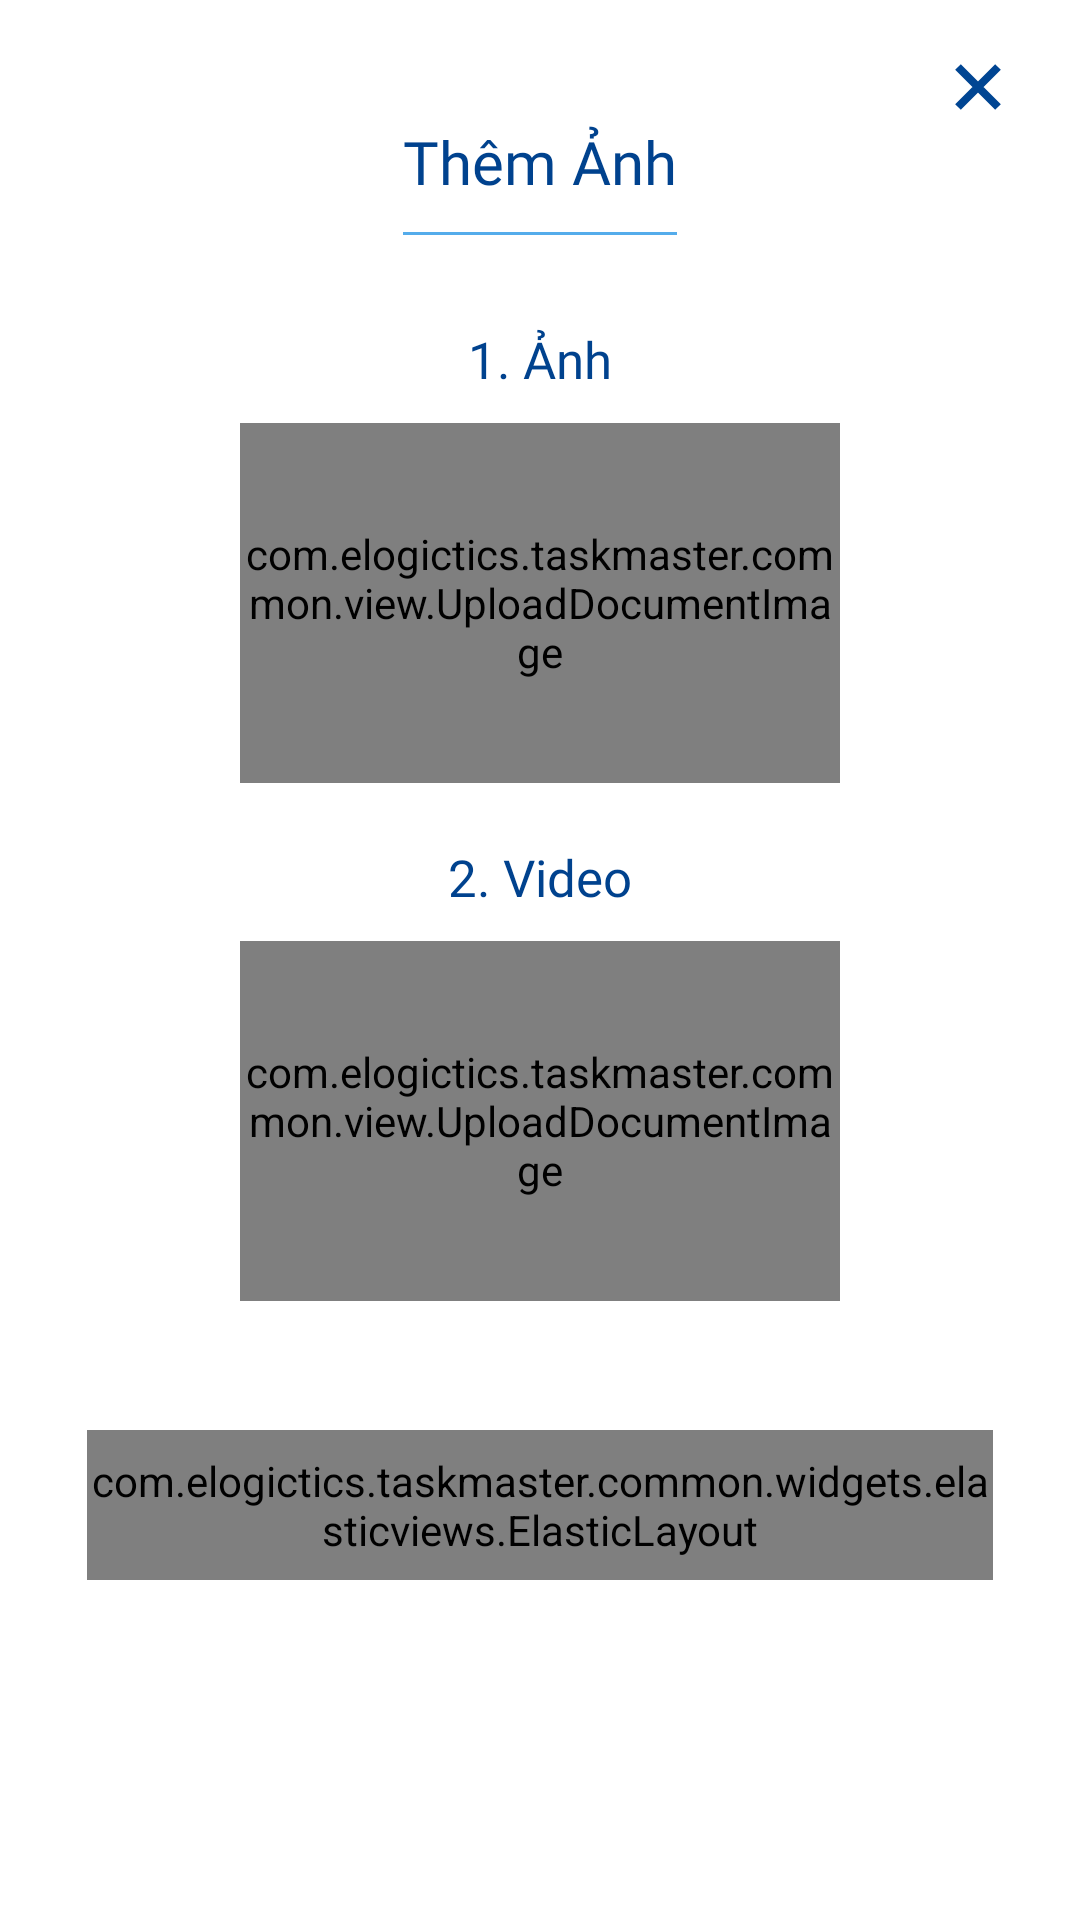

Named icons in this screenshot (1080w x 1920h) and their bounding boxes, detection(x1, y1, x2, y2):
close dialog: detection(955, 64, 1001, 110)
